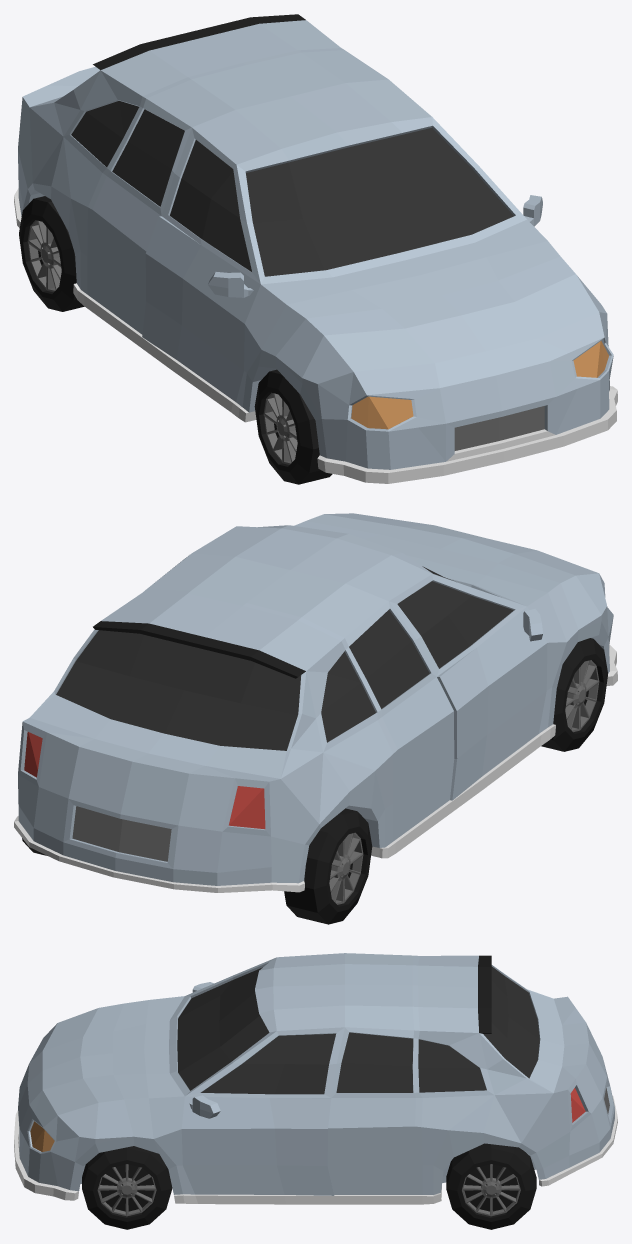
Rendered from car_NormalCar2.glb.
3 renders of one model, top to bottom at view 1: azimuth 30°, elevation 25°; view 2: azimuth 150°, elevation 25°; view 3: azimuth 270°, elevation 25°, orthographic. The views are drawn at different scales.
Visible parts, largest first — view 1: NormalCar2, NormalCar2_FrontRightWheel, NormalCar2_BackWheels; view 2: NormalCar2, NormalCar2_BackWheels, NormalCar2_FrontRightWheel; view 3: NormalCar2, NormalCar2_BackWheels, NormalCar2_FrontLeftWheel.
Boxes of the visible parts, left/top/right/bottom form: NormalCar2: left=14, top=14, right=617, bottom=483; NormalCar2_FrontRightWheel: left=254, top=369, right=332, bottom=484; NormalCar2_BackWheels: left=19, top=196, right=84, bottom=311; NormalCar2: left=14, top=513, right=617, bottom=892; NormalCar2_BackWheels: left=22, top=808, right=372, bottom=924; NormalCar2_FrontRightWheel: left=541, top=638, right=607, bottom=751; NormalCar2: left=14, top=953, right=617, bottom=1204; NormalCar2_BackWheels: left=446, top=1143, right=536, bottom=1229; NormalCar2_FrontLeftWheel: left=82, top=1146, right=172, bottom=1229.
Bounding box in the file's own units: 1.64 × 1.15 × 3.31.
